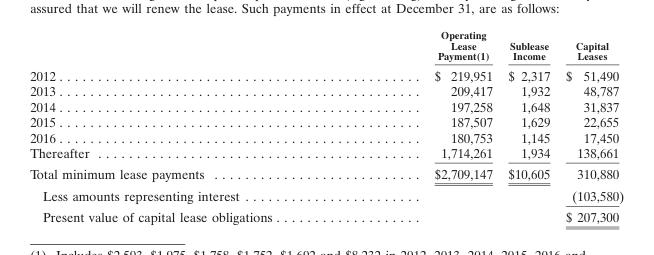table: (29, 28, 623, 224)
table column: (29, 28, 352, 224), (352, 28, 499, 224), (557, 28, 623, 224), (499, 28, 557, 224)
table column header: (29, 28, 623, 64)
table row: (29, 28, 623, 64), (29, 162, 623, 184), (29, 184, 623, 206), (29, 64, 623, 82), (29, 144, 623, 162), (29, 206, 623, 224), (29, 82, 623, 98), (29, 113, 623, 129), (29, 98, 623, 113), (29, 129, 623, 144)
